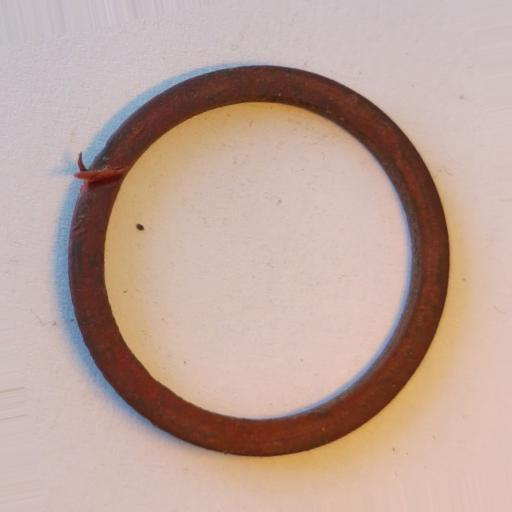defect: (74, 152, 130, 194)
